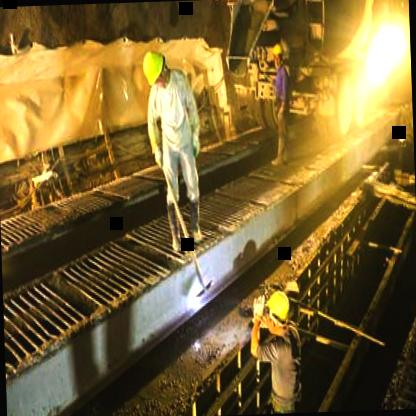helmet: (139, 46, 170, 96), (264, 288, 294, 338), (270, 40, 283, 69)
